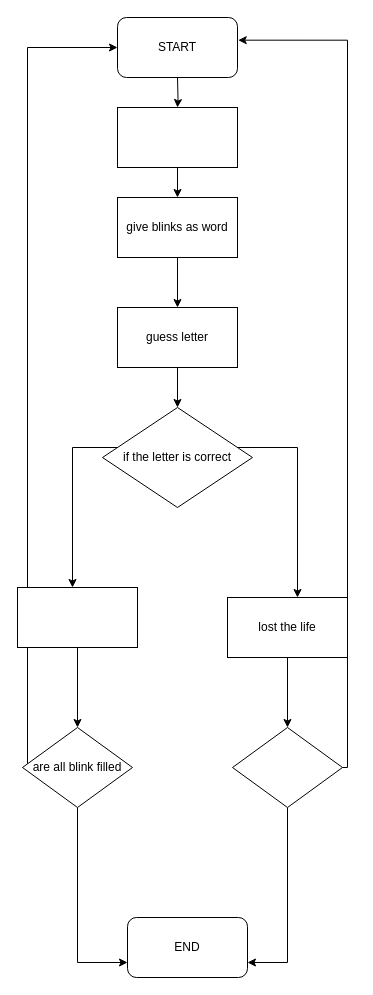
The diagram is 373 pixels wide and 995 high, and some of its shapes have lost their labels. The shapes that lost their labels are listed below. From the top down, each one's centre as x and y in pixels, then its label:
At [177,137]: "generate word".
At [77,617]: "replace letter with blink".
At [287,767]: "are all life lost".
